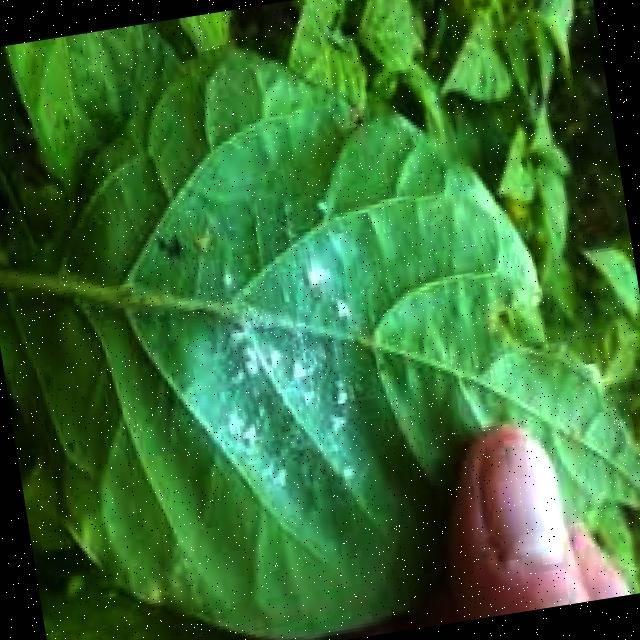whitefly: (148, 157, 438, 582)
